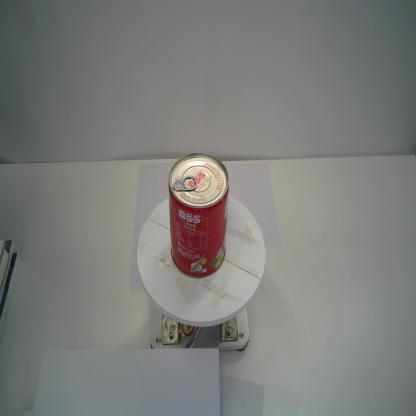Canned Food: (168, 152, 230, 279)
